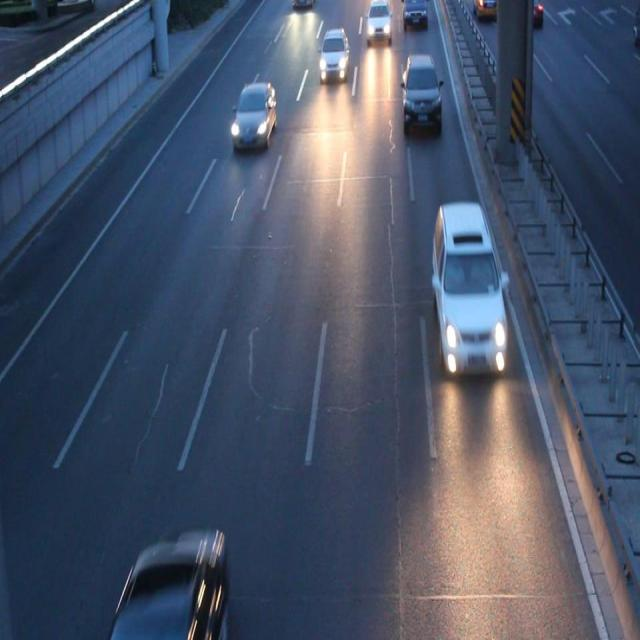car: (120, 533, 224, 640), (402, 54, 441, 124), (233, 84, 274, 142), (320, 31, 348, 76), (366, 1, 390, 38), (514, 1, 541, 26), (471, 1, 500, 18), (292, 1, 313, 11)
truck: (431, 204, 503, 372), (402, 1, 427, 24)
